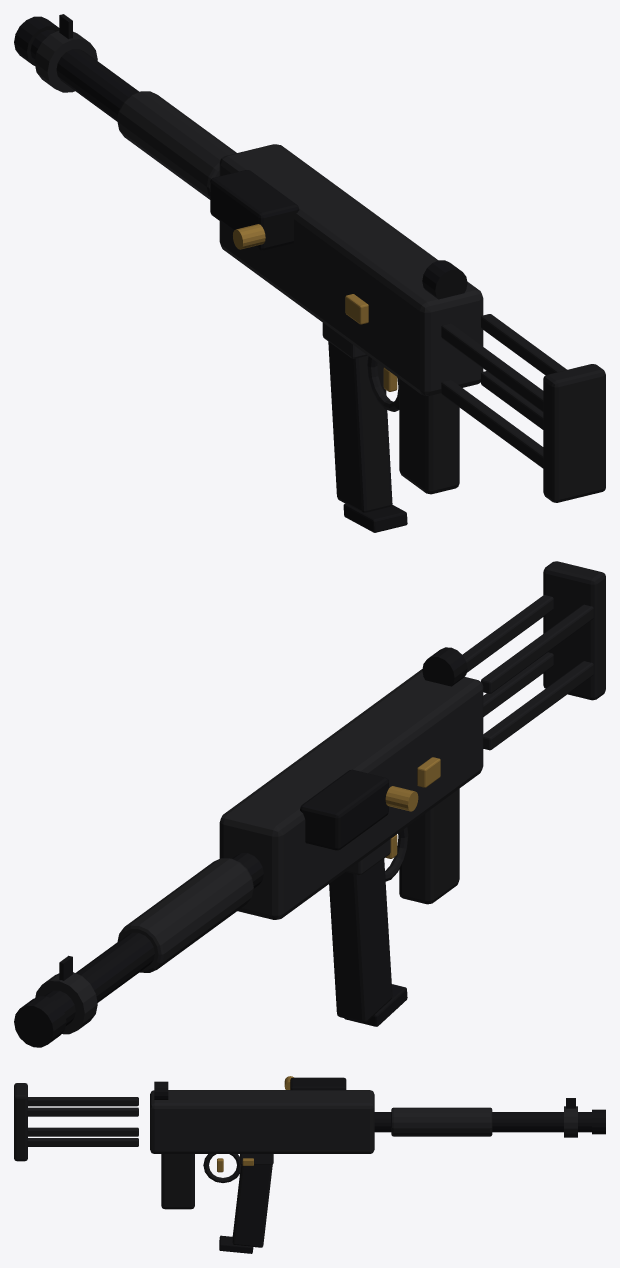
The model's file is smg.obj.
3 renders of one model, top to bottom at view 1: azimuth 30°, elevation 25°; view 2: azimuth 150°, elevation 25°; view 3: azimuth 270°, elevation 25°, orthographic. The views are drawn at different scales.
Parts seen in each view (by area): view 1: smg; view 2: smg; view 3: smg.
Part boxes in pixels (x1,y1,x2,y2): smg: [14, 14, 605, 532]; smg: [14, 561, 605, 1047]; smg: [14, 1076, 605, 1253].
Size of the model in its own units: 0.1425 by 0.3292 by 1.06.
